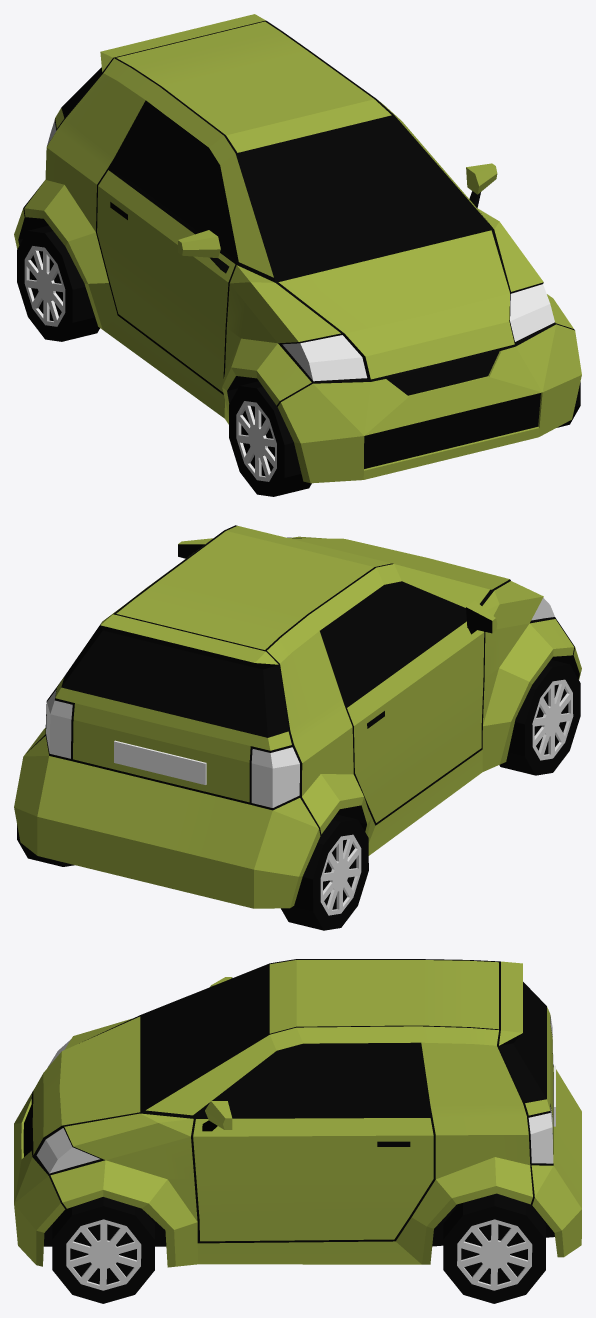
The model's file is Micro.glb.
3 renders of one model, top to bottom at view 1: azimuth 30°, elevation 25°; view 2: azimuth 150°, elevation 25°; view 3: azimuth 270°, elevation 25°, orthographic. The views are drawn at different scales.
Parts seen in each view (by area): view 1: Micro; view 2: Micro; view 3: Micro.
Part boxes in pixels (bbox=[...]): Micro: bbox=[14, 14, 581, 496]; Micro: bbox=[14, 525, 581, 930]; Micro: bbox=[14, 959, 581, 1303].
Bounding box in the file's own units: 2.84 × 2.29 × 4.81.
